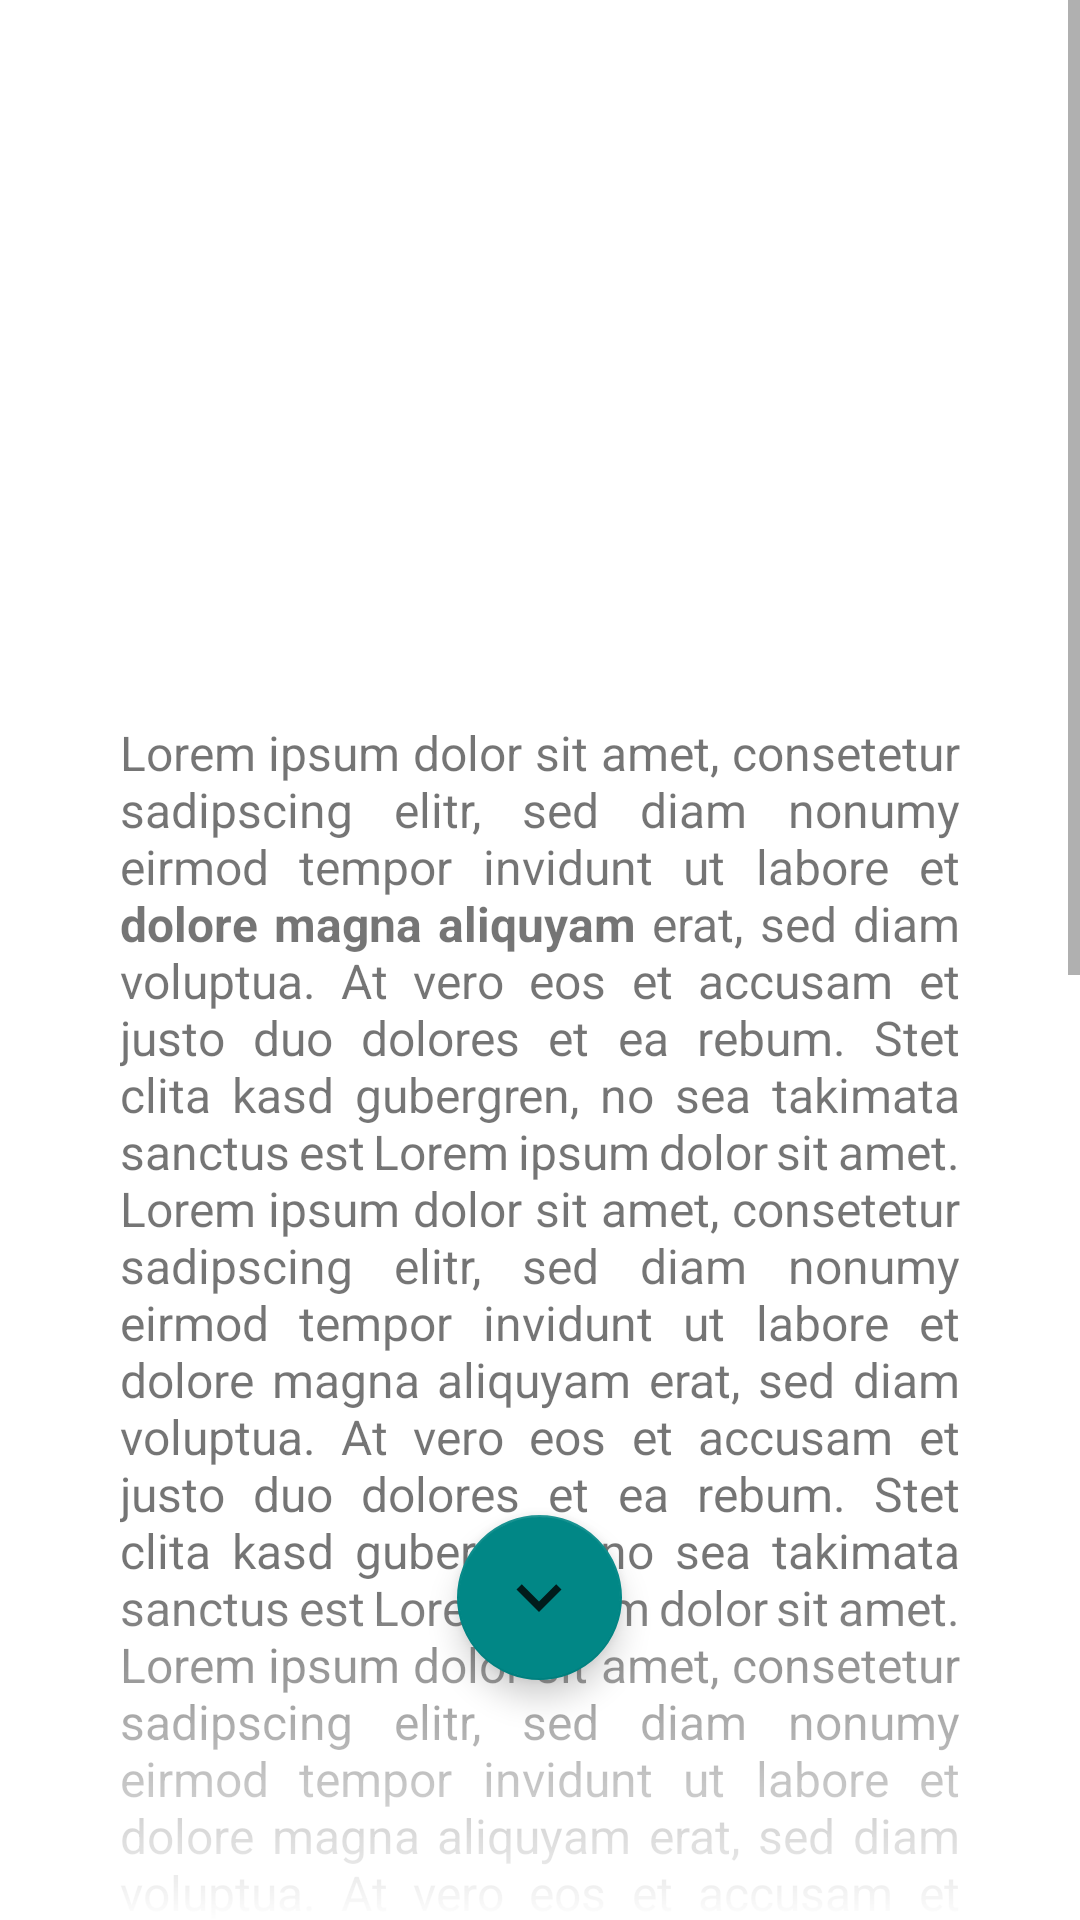

Locate icon controls on the screen. Image size 1080px×1920px, boxes as [x1,y1,x2,y2].
scroll theme: [457,1515,622,1680]
